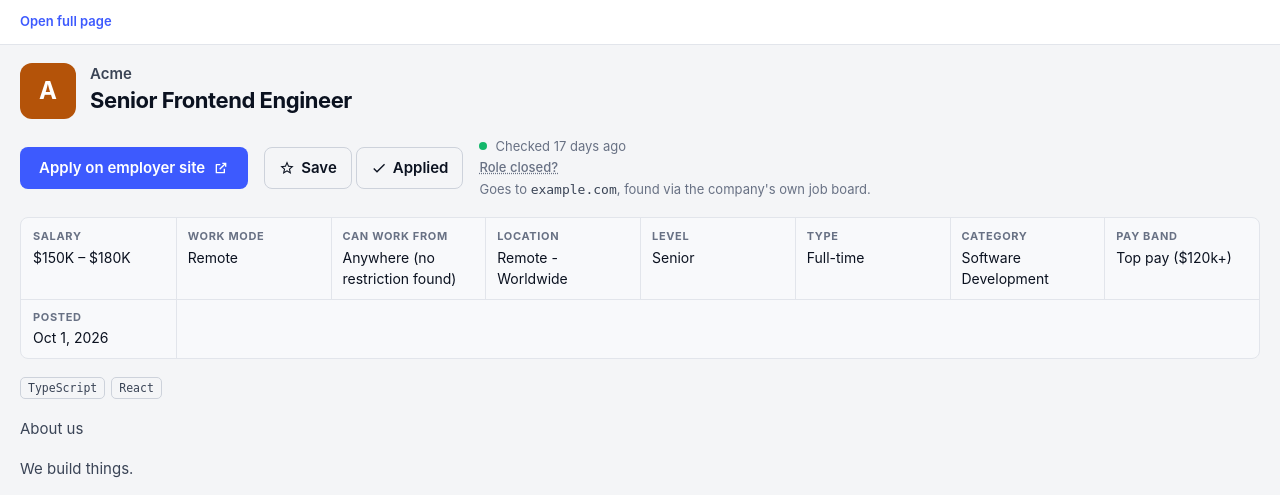
Scenario: freshness and "Role closed?" › sends a report and thanks the visitor
Click the button "Role closed?" at point(519, 168), box [480,158,558,178]
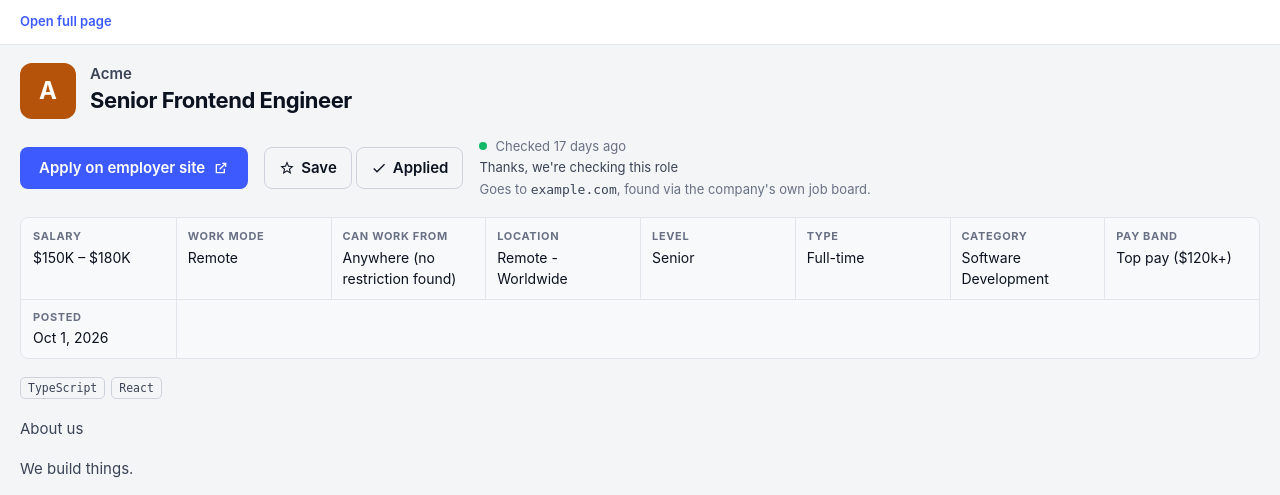
Result: the message reads "Thanks, we're checking this role" at [480,159,678,175]
Result: the button "Role closed?" is gone
